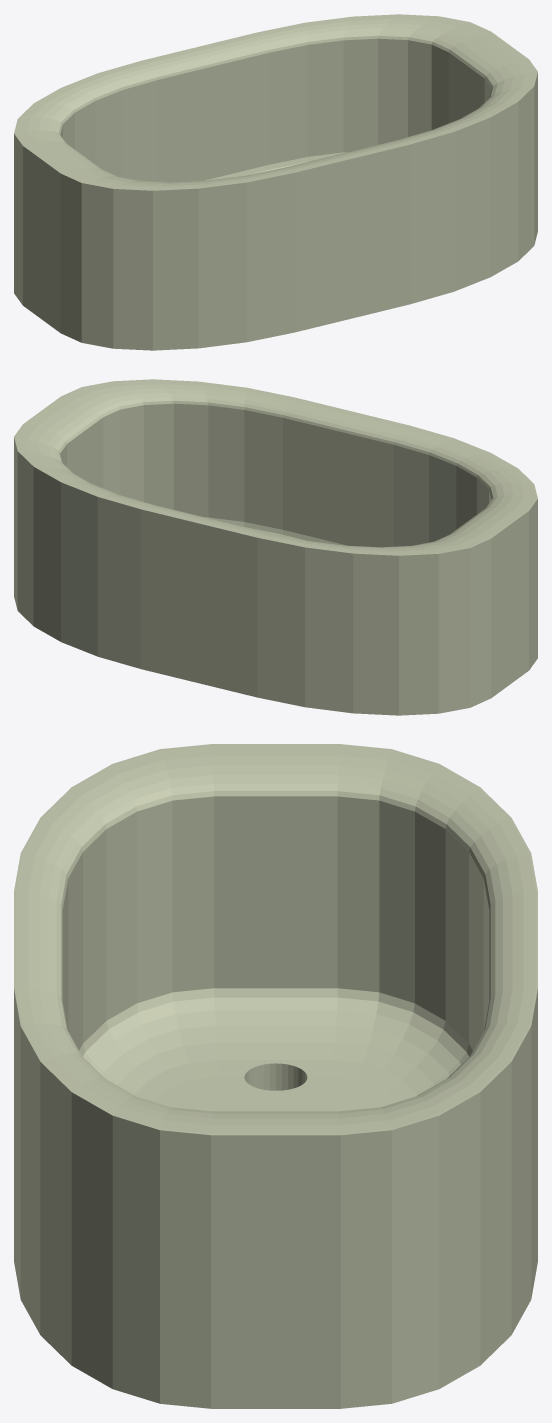
Rendered from Banheira.fbx.
The picture shows the model from 3 angles, top to bottom: view 1: azimuth 30°, elevation 25°; view 2: azimuth 150°, elevation 25°; view 3: azimuth 270°, elevation 25°; orthographic projection. The views are drawn at different scales.
Parts seen in each view (by area): view 1: Cube.072; view 2: Cube.072; view 3: Cube.072.
Part boxes in pixels (<box>): Cube.072: <box>14,14,537,350</box>; Cube.072: <box>14,379,537,715</box>; Cube.072: <box>14,744,537,1408</box>.
Bounding box in the file's own units: 934 × 305 × 529.
